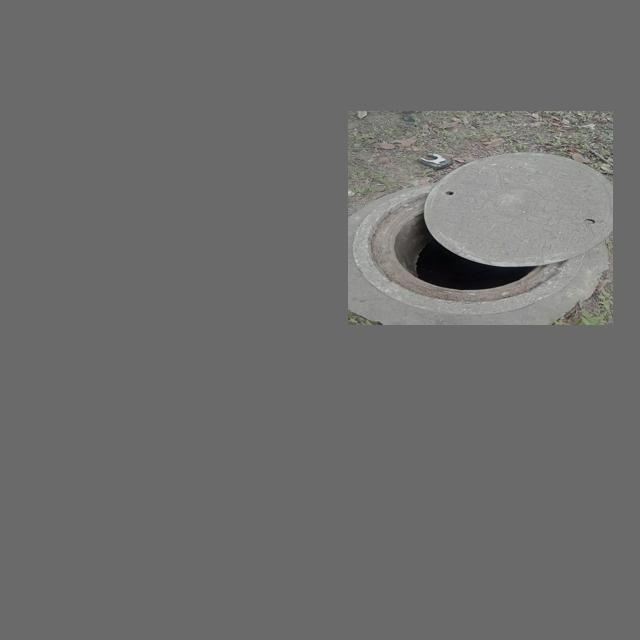uncovered: (348, 151, 613, 314)
